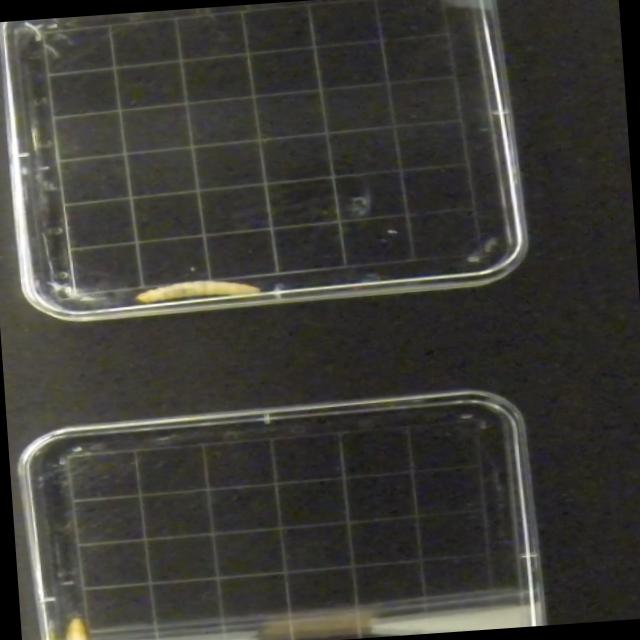larva: (130, 274, 261, 304), (55, 616, 97, 640)
